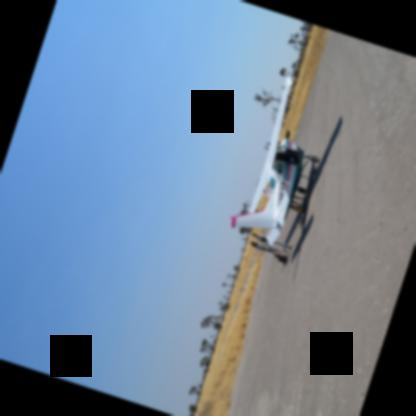suitcase: (273, 251, 287, 259)
